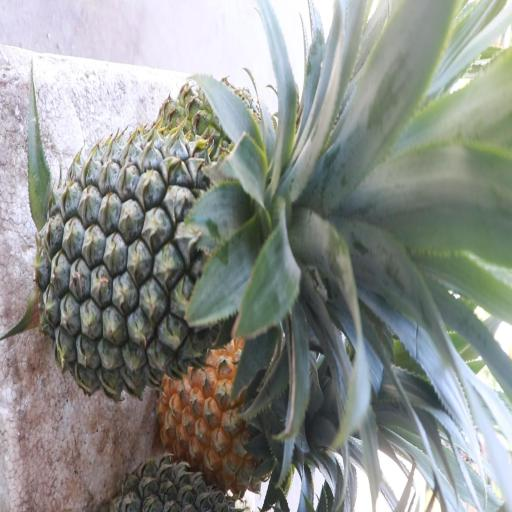Pineapple - v8 v1: (163, 334, 312, 492)
